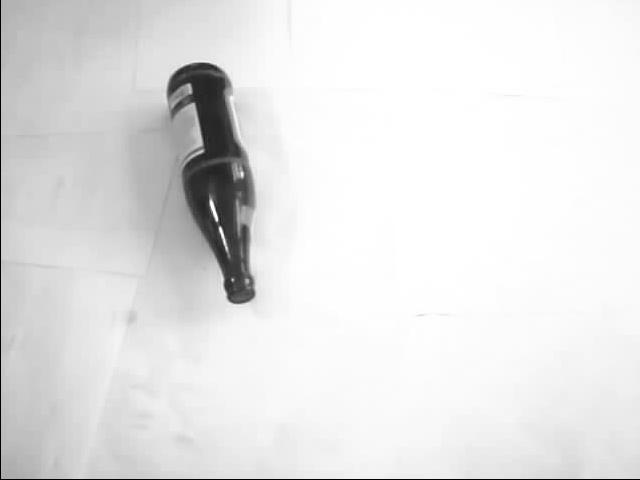Glass: (165, 60, 259, 307)
